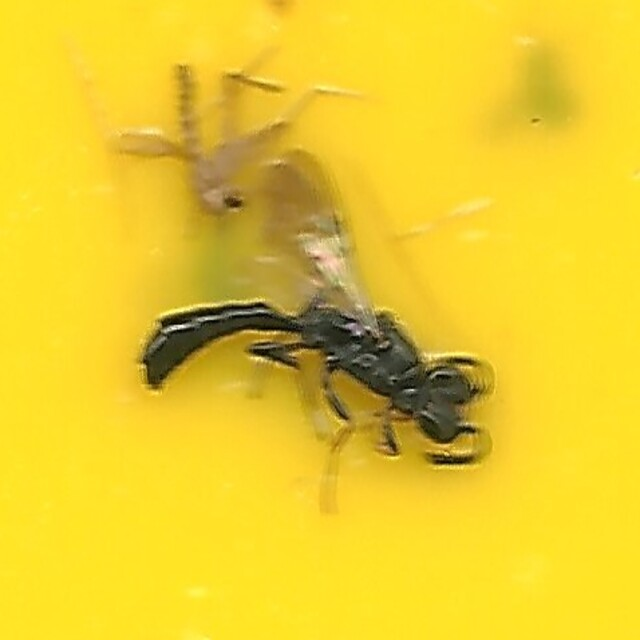Hymenoptera: (134, 161, 506, 479)
